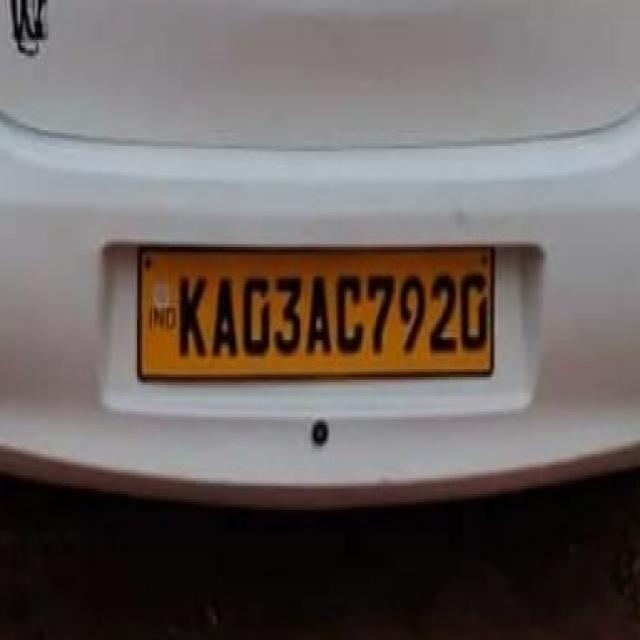0: (239, 273, 273, 365), (460, 263, 490, 355)
3: (273, 268, 303, 366)
7: (365, 264, 398, 362)
9: (396, 268, 428, 362)
A: (210, 263, 240, 367), (304, 272, 336, 368)
C: (332, 270, 366, 356)
K: (175, 266, 209, 370)
